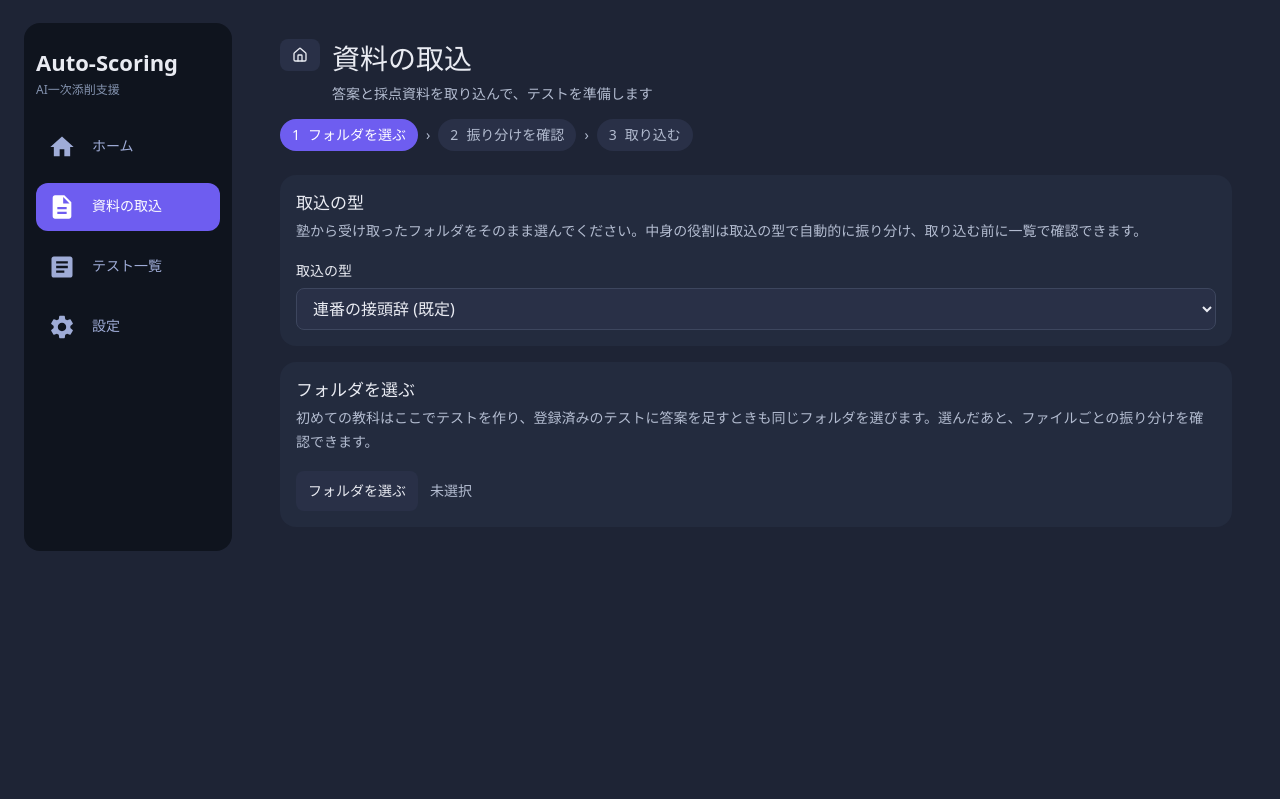
Test: IntakePage invariants › Issue #306: ready なテストへの取込は答案件数を事実どおり出す
The width and height of the screenshot is (1280, 799).
Expected: the dropdown with test id "intake-template-picker" is shown, top-left (296, 288), bottom-right (1216, 330)
Click the button with test id "intake-choose-folder".
click(357, 491)  # box top-left (296, 471), bottom-right (418, 511)
(page scrolled)
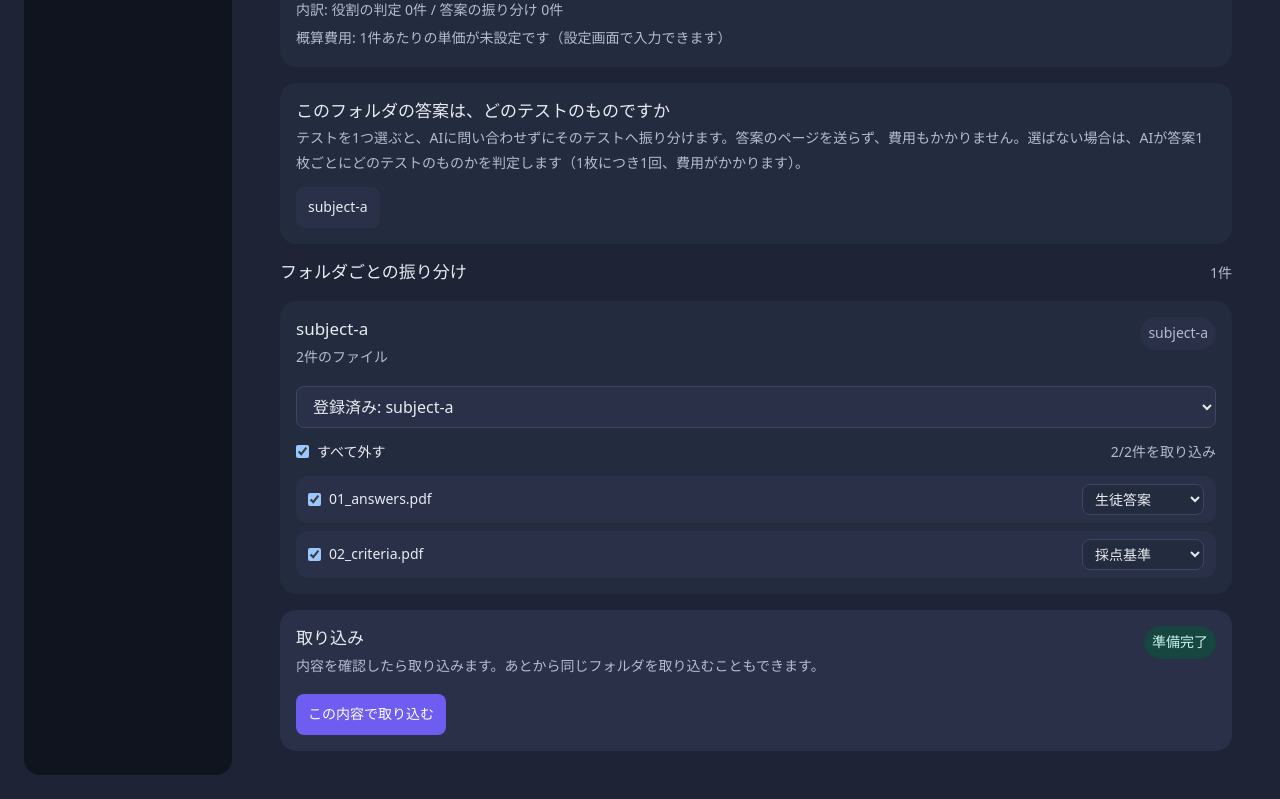
Click the button with test id "intake-import".
click(371, 715)  # box top-left (296, 694), bottom-right (446, 735)
(page scrolled)
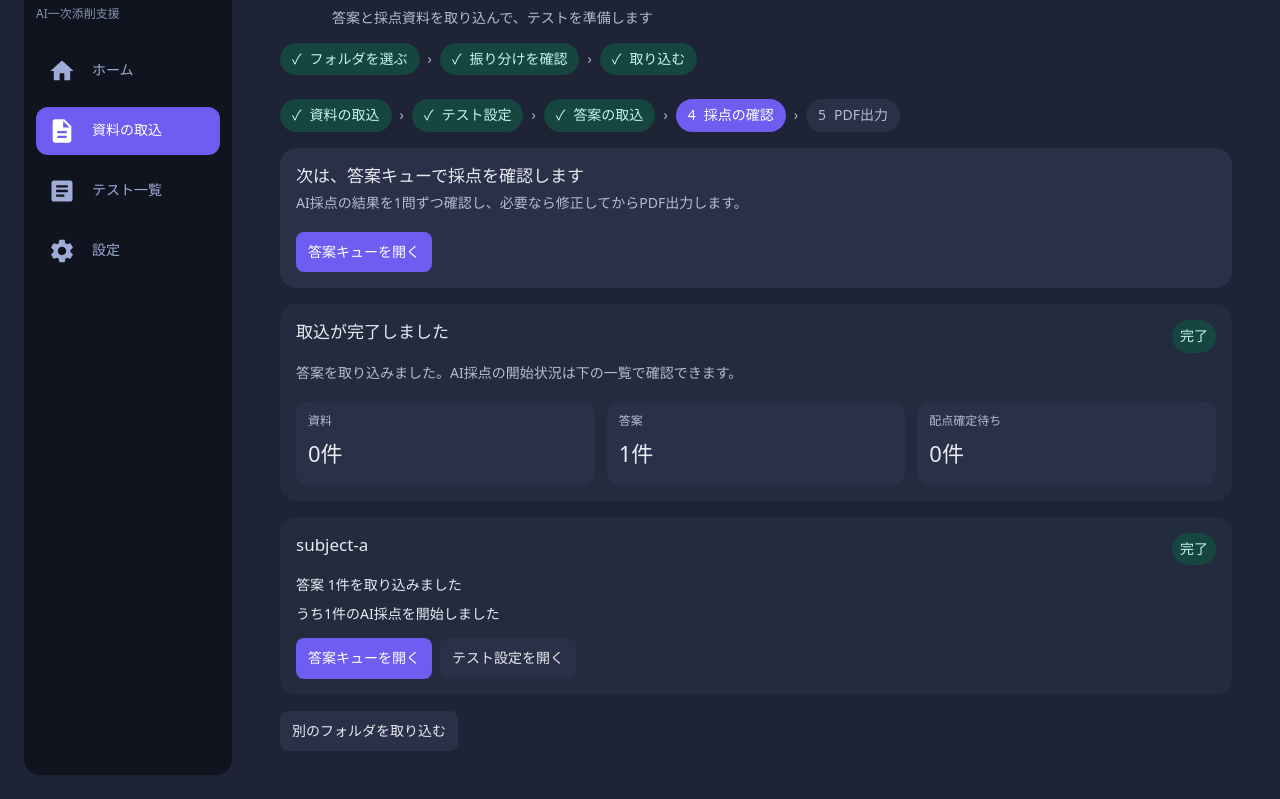
Expected: the heading "取込が完了しました" is shown, top-left (296, 320), bottom-right (449, 344)
Expected: the list item "答案 1件を取り込みました" is shown, top-left (296, 575), bottom-right (462, 594)
